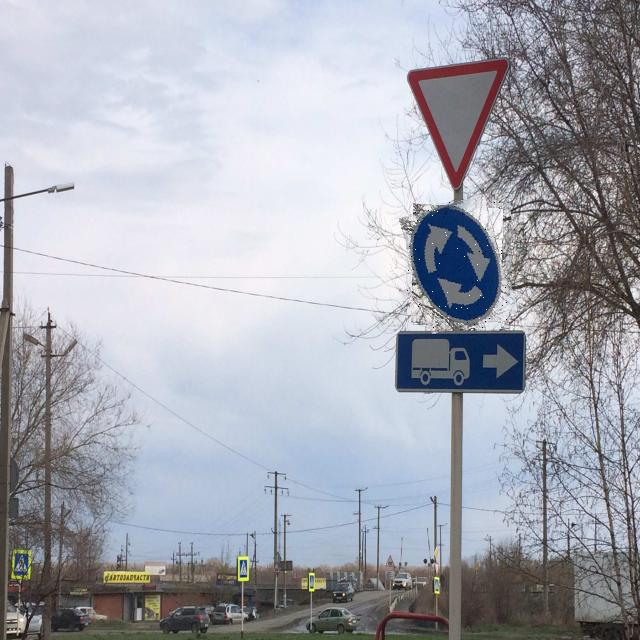roundabout: (406, 198, 511, 329)
